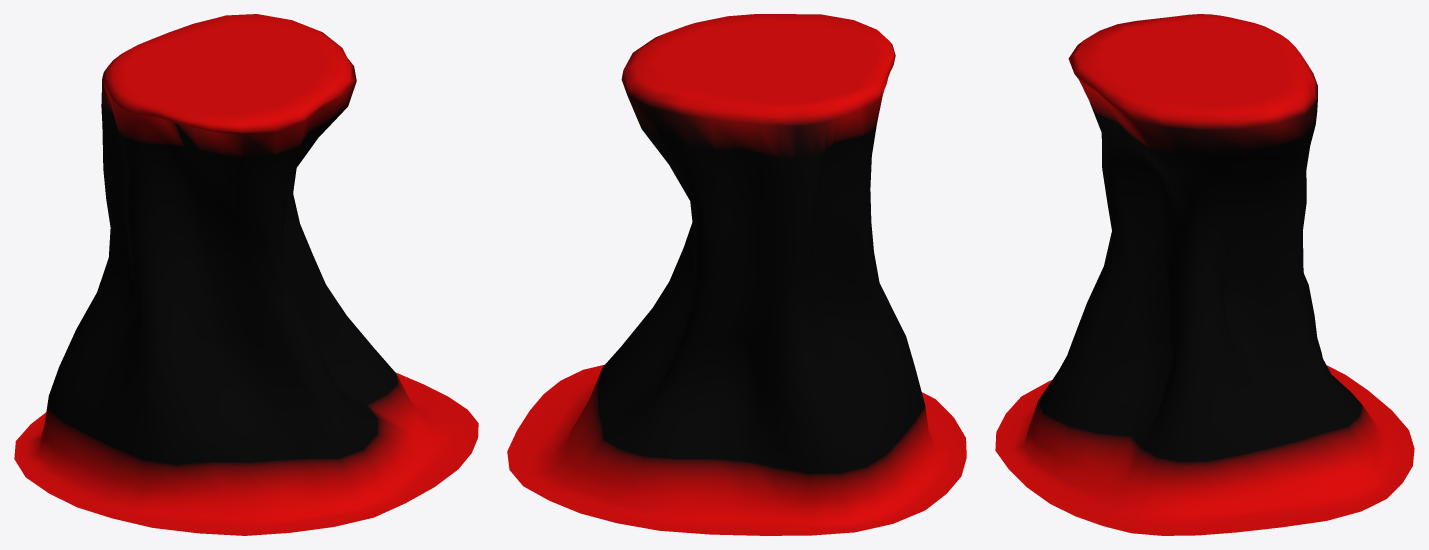
The model's file is GroundObject03B.fbx.
The picture shows the model from 3 angles, left to right: view 1: azimuth 30°, elevation 25°; view 2: azimuth 150°, elevation 25°; view 3: azimuth 270°, elevation 25°; orthographic projection. The views are drawn at different scales.
Parts seen in each view (by area): view 1: GroundObject03B; view 2: GroundObject03B; view 3: GroundObject03B.
Part boxes in pixels (x1,y1,x2,y2): GroundObject03B: [14, 14, 478, 535]; GroundObject03B: [507, 14, 966, 535]; GroundObject03B: [995, 14, 1414, 535].
Size of the model in its own units: 2.2 by 2 by 2.06.
